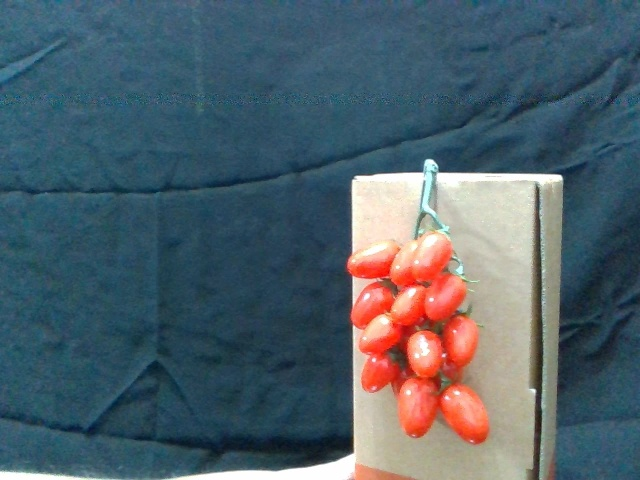tomato: (439, 386, 491, 448), (399, 377, 438, 439), (350, 281, 398, 331), (427, 273, 470, 322), (347, 241, 401, 279), (414, 232, 452, 284), (406, 329, 446, 378), (444, 318, 480, 371), (362, 313, 403, 356), (393, 286, 431, 331), (361, 352, 401, 394), (392, 239, 423, 286)
